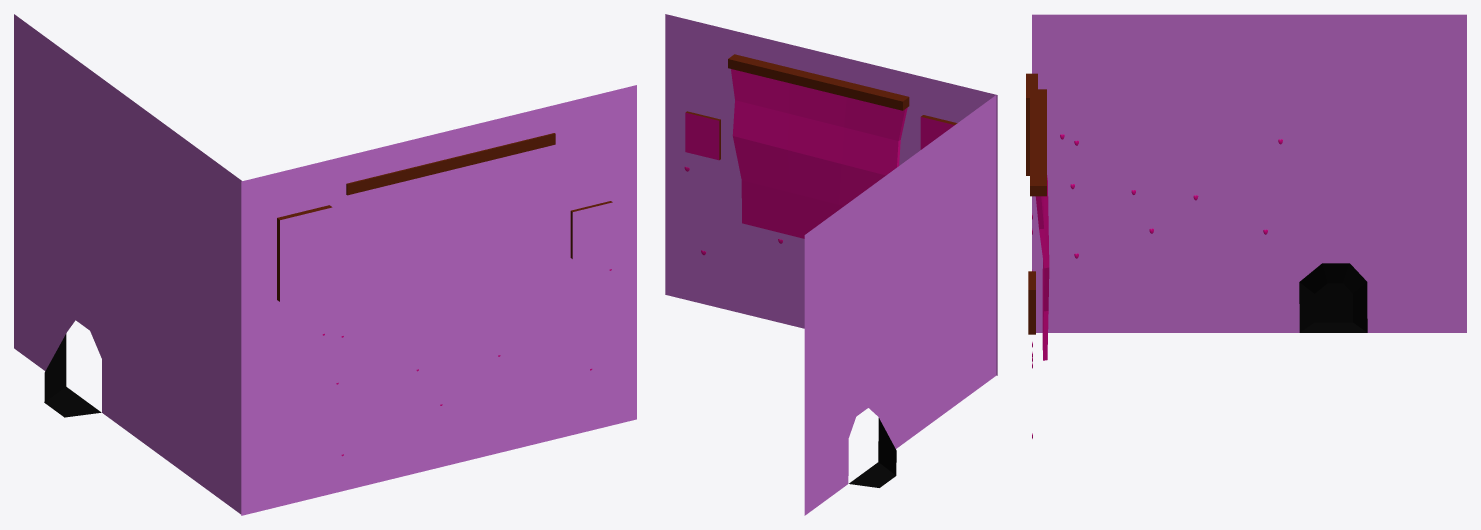
The model's file is Wall.fbx.
The picture shows the model from 3 angles, left to right: view 1: azimuth 30°, elevation 25°; view 2: azimuth 150°, elevation 25°; view 3: azimuth 270°, elevation 25°; orthographic projection. The views are drawn at different scales.
Parts seen in each view (by area): view 1: Wall; view 2: Wall; view 3: Wall.
Part boxes in pixels (x1,y1,x2,y2): Wall: (14,14,636,515); Wall: (665,14,997,515); Wall: (1026,14,1466,360).
Size of the model in its own units: 5569 by 4244 by 5272.
